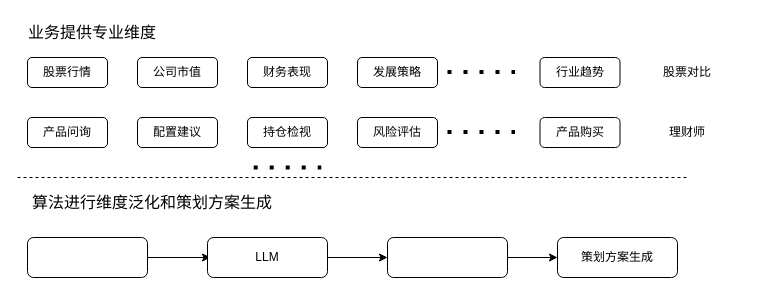
Some shapes in this 770 by 295 pixel diagram are drawn without their labels. Each missing label, with the box of its shape:
业务维度: (26, 236, 148, 278)
维度泛化: (386, 236, 508, 278)
